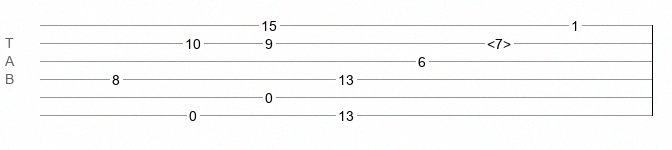0: (189, 108, 197, 118), (265, 90, 273, 100)
1: (571, 18, 579, 28)
10: (185, 36, 201, 46)
13: (338, 72, 354, 82), (338, 108, 354, 118)
15: (261, 18, 277, 28)
6: (418, 54, 426, 64)
8: (112, 72, 120, 82)
9: (265, 36, 273, 46)
harmonic: (487, 36, 511, 46)
